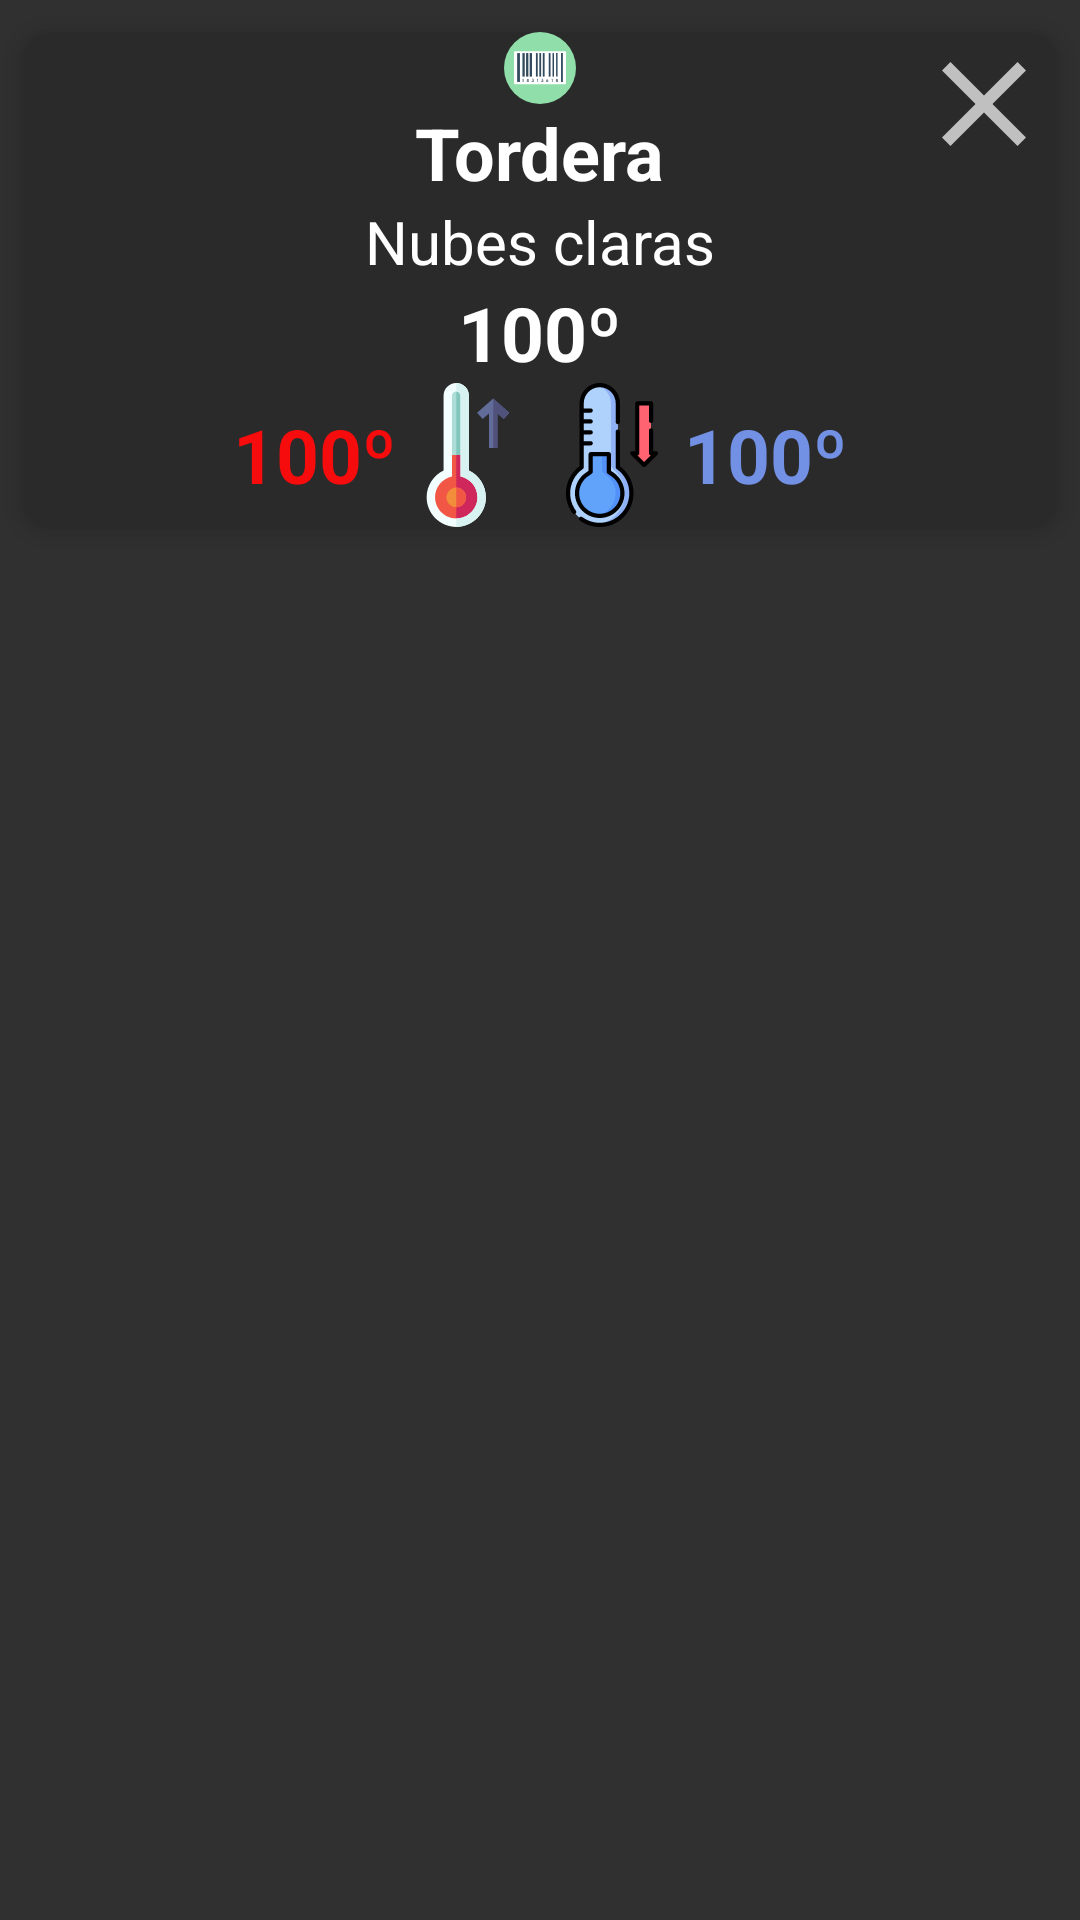

Icons on this 1080 x 1920 Android screen, each with its box as (x1, y1, x2, y2):
close: (942, 62, 1026, 146)
high temperature: (426, 383, 509, 527)
low temperature: (566, 383, 658, 527)
serial number: (504, 32, 576, 104)
